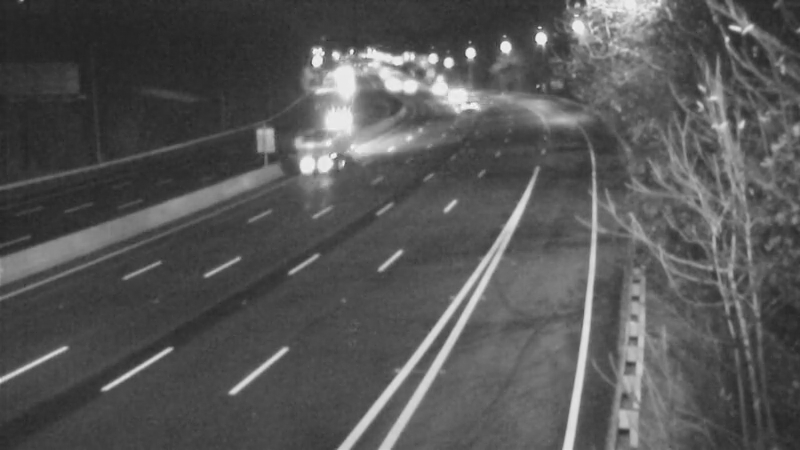vehicle: (388, 62, 438, 112), (411, 62, 461, 112), (429, 68, 479, 118), (445, 84, 495, 134), (299, 119, 349, 169), (310, 93, 360, 143)
